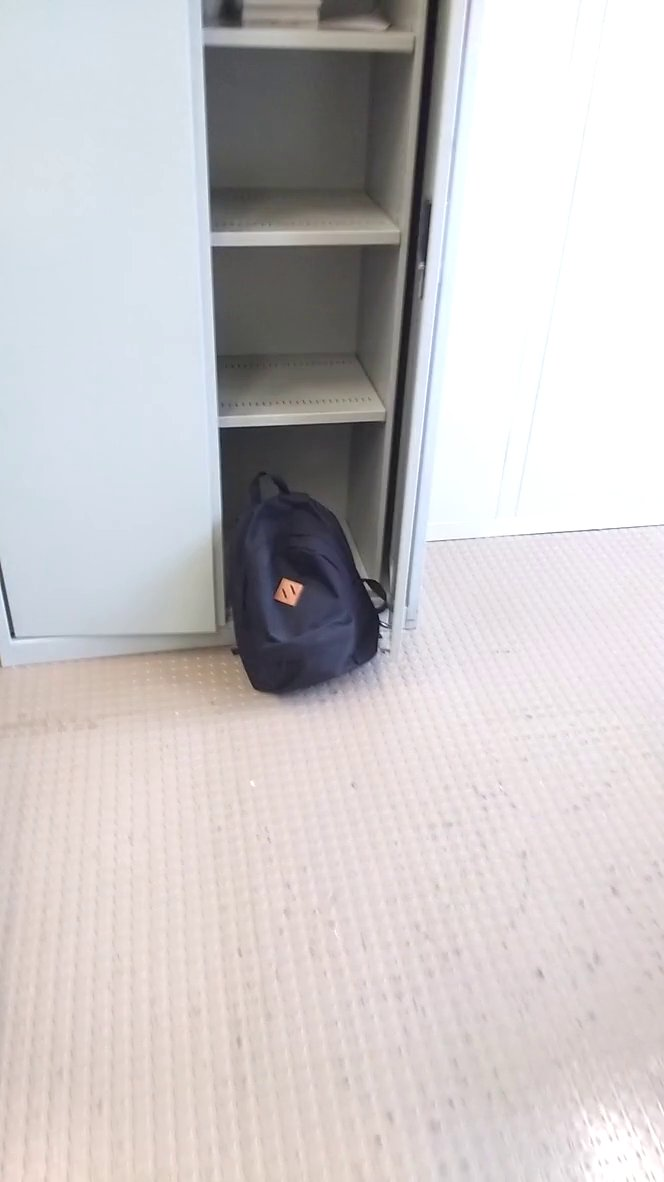bag: (223, 464, 390, 699)
